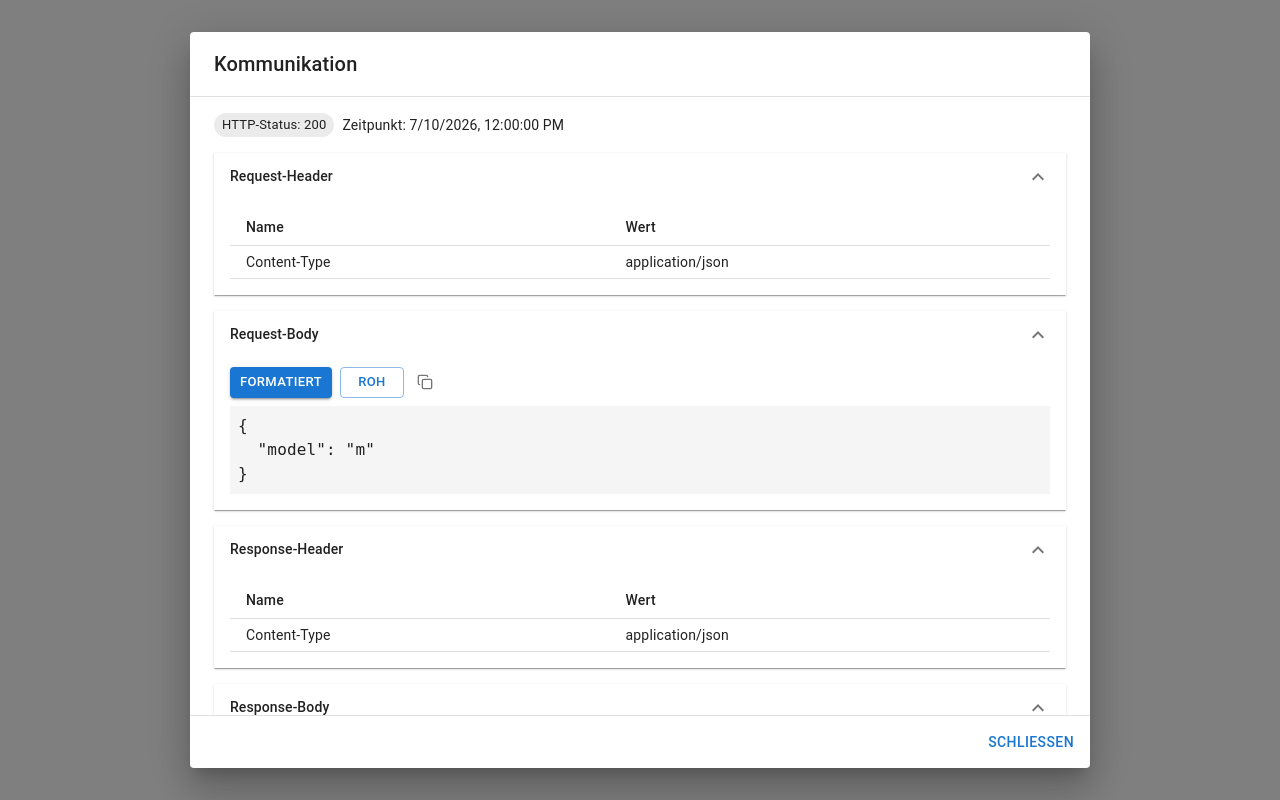
Test: renders the four sections as accordions that start expanded and collapse on summary click
Click the button "Request-Header".
click(281, 176)  # box top-left (214, 153), bottom-right (1066, 201)
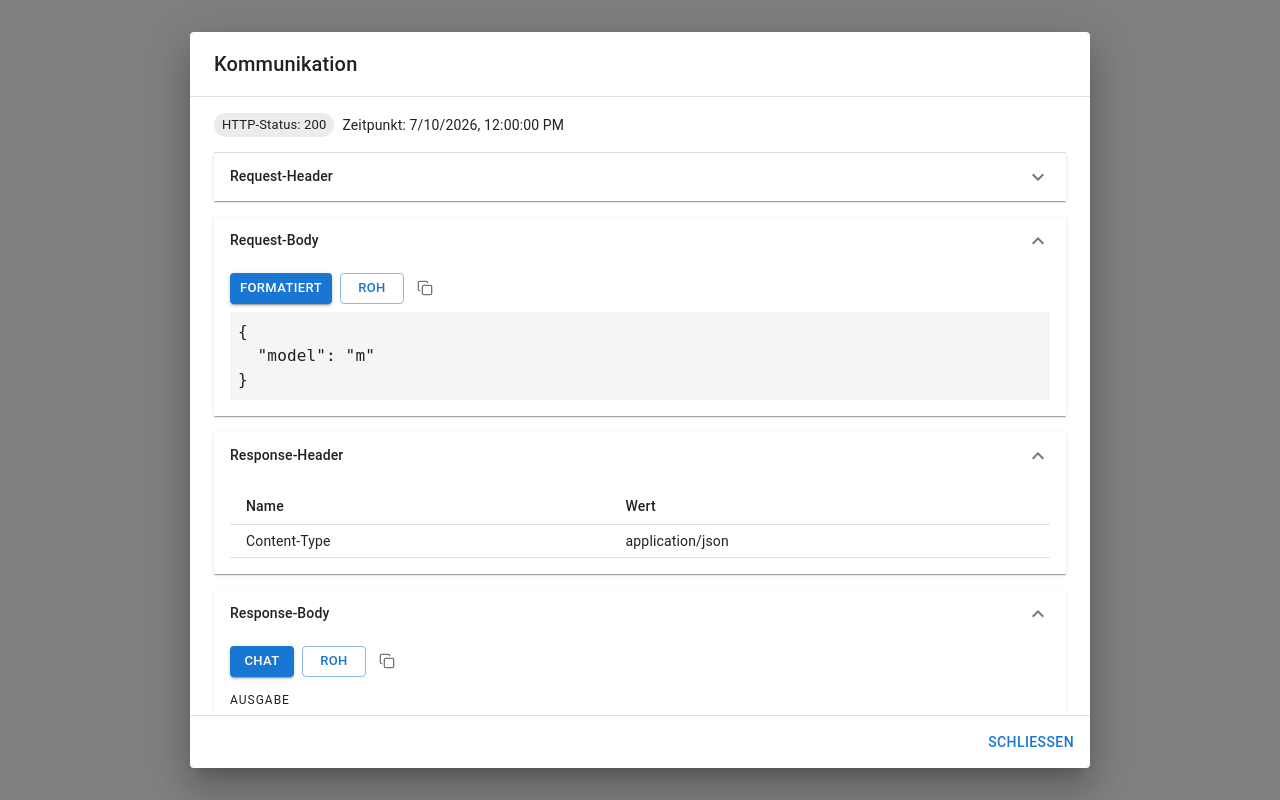
Check: the button "Request-Header" is collapsed, box top-left (214, 153), bottom-right (1066, 201)
